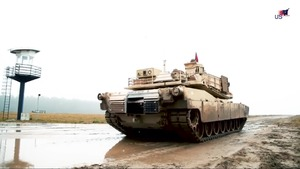abrams: (98, 63, 252, 142)
